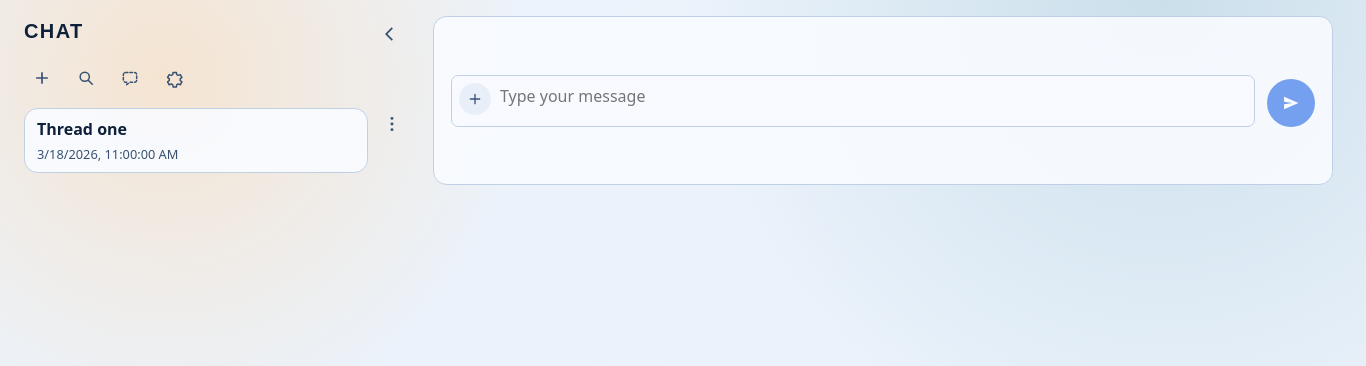
Scenario: ChatPlaygroundPage › shows a thinking status instead of an empty assistant placeholder while waiting
Type "Slow answer" into the text box labelled "message" at coordinates (853, 101), box [451, 75, 1255, 127]
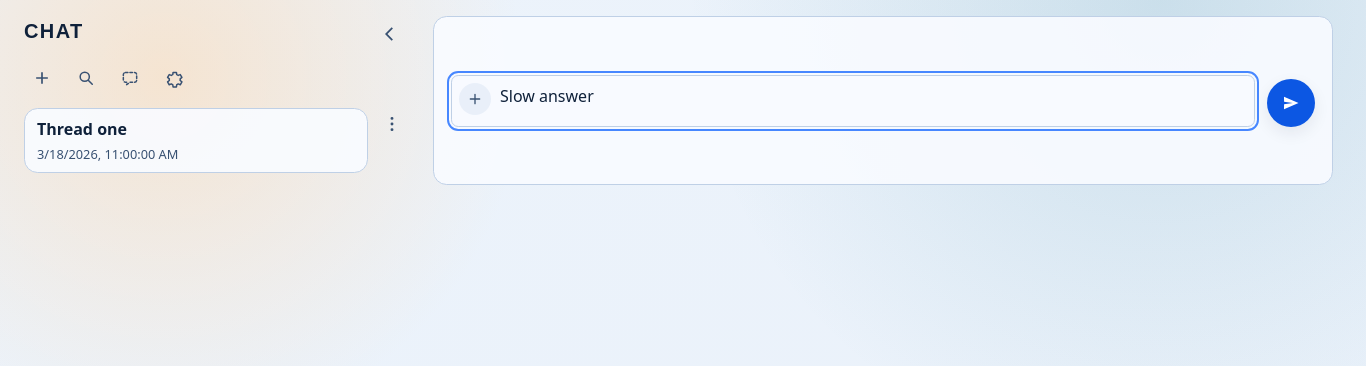
Click the button named "Send" at coordinates (1291, 103), box [1267, 79, 1315, 127]
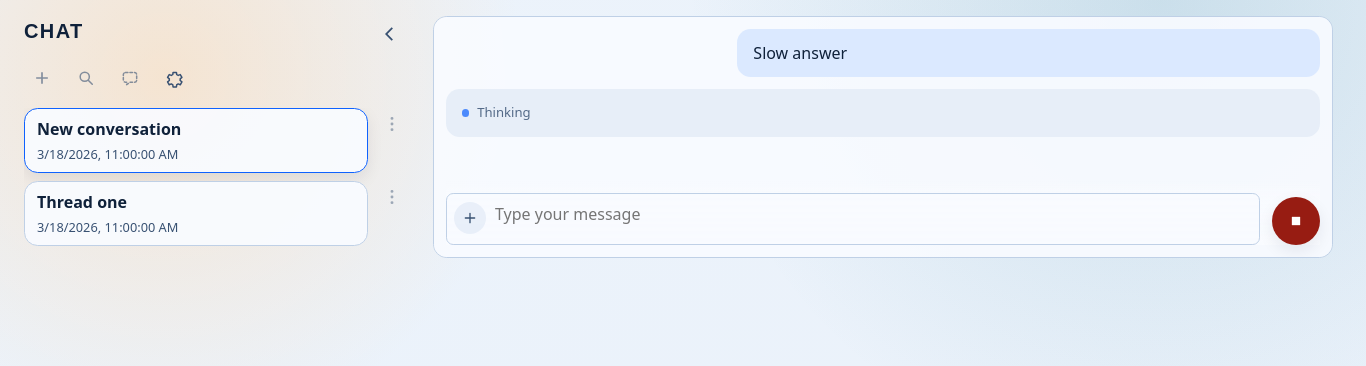
Expected: the text "Slow answer" is shown, [753, 42, 847, 64]
Expected: the text "Thinking" is shown, [477, 104, 531, 122]
